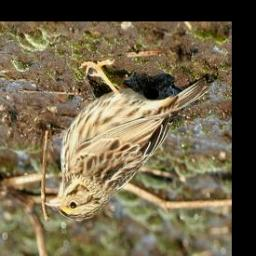Sparrow: (45, 57, 215, 223)
